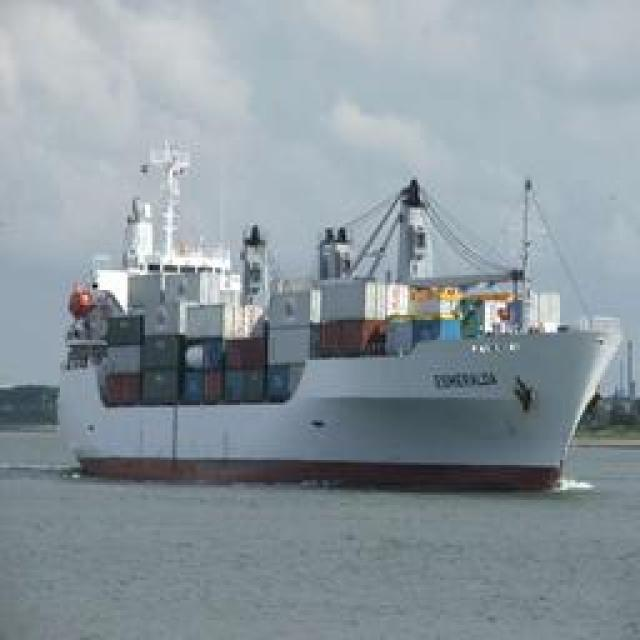ship2: (56, 153, 628, 491)
